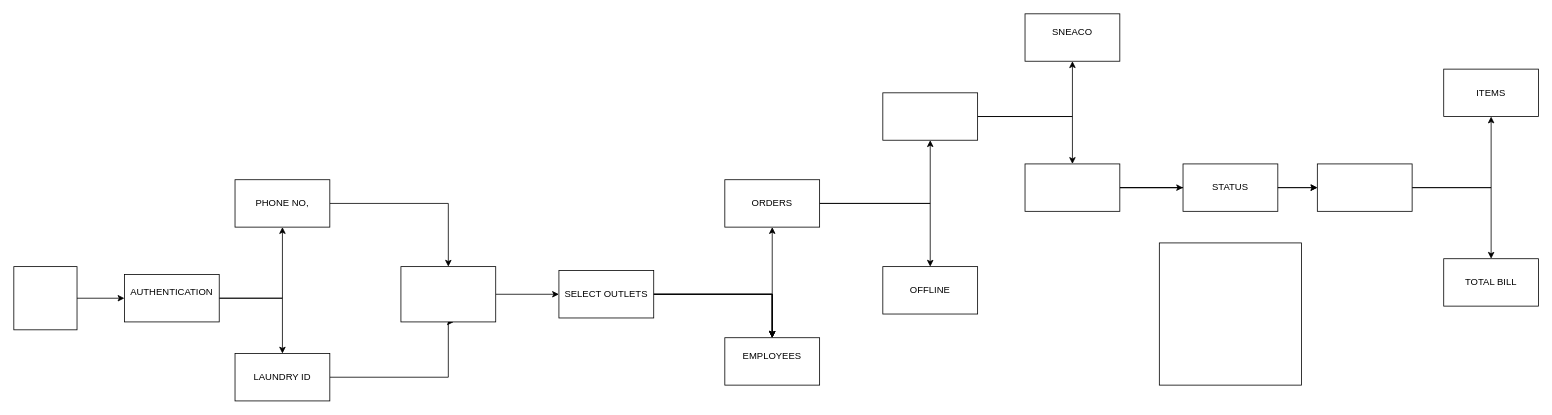
Some shapes in this 1552 by 415 pixel diagram are drawn without their labels. The centre of each missing label's shape, as x and y in pixels:
ONLINE: (x=930, y=116)
OTHERS: (x=1072, y=187)
OTP: (x=448, y=294)
PICKUP, PENDING(NOT STARTED), IN PROCESS, COMPLETE, DELIVERED: (x=1230, y=313)
SERVICE: (x=1364, y=187)
SNEACO VENDOR PANEL: (x=45, y=298)
